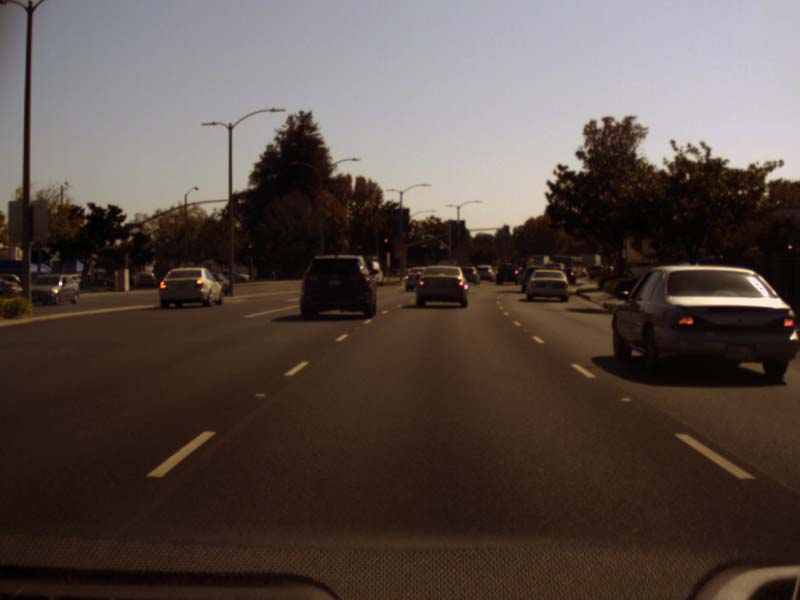Red: (381, 235, 391, 252)
